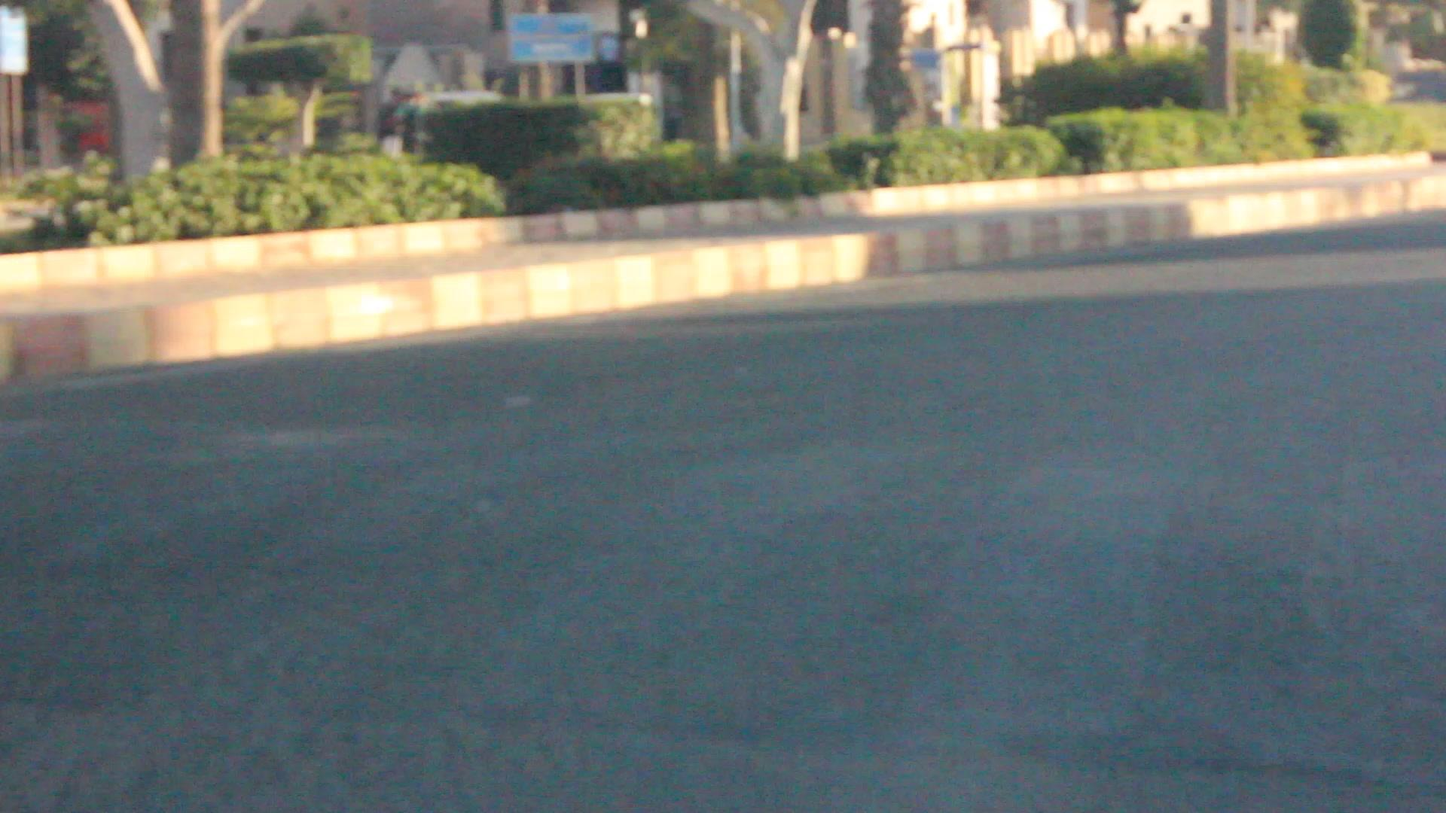Bump: (6, 412, 1446, 730)
